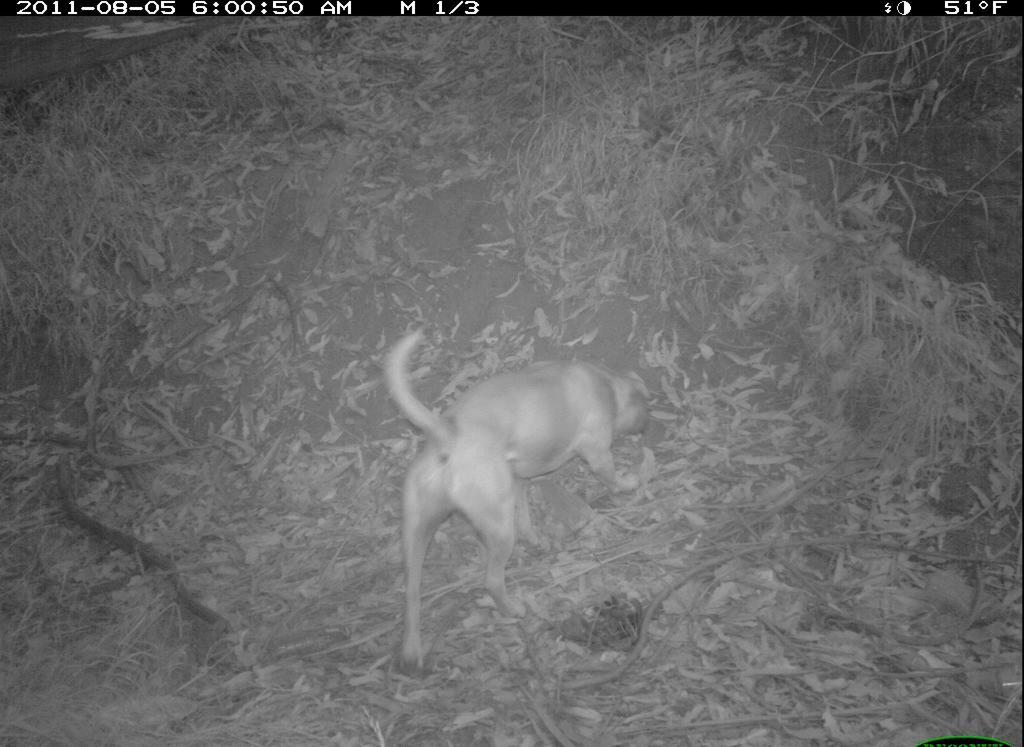dog: (373, 328, 658, 670)
